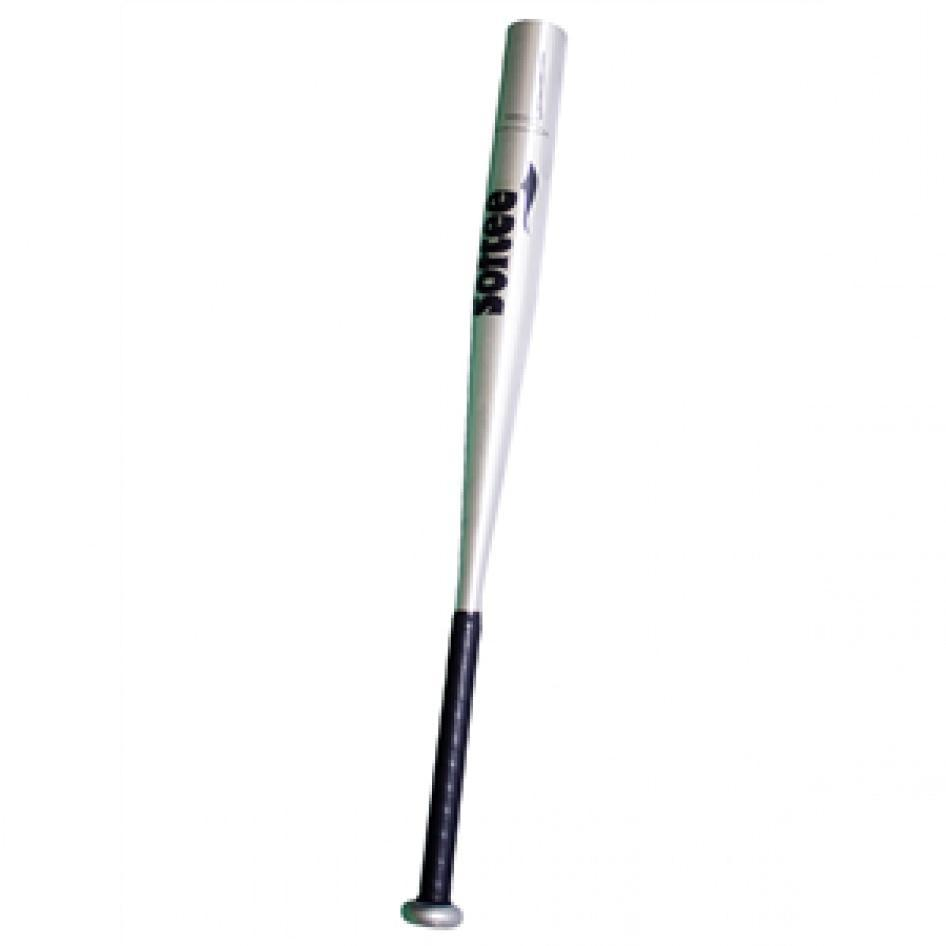Baseball-Bat: (390, 4, 584, 946)
